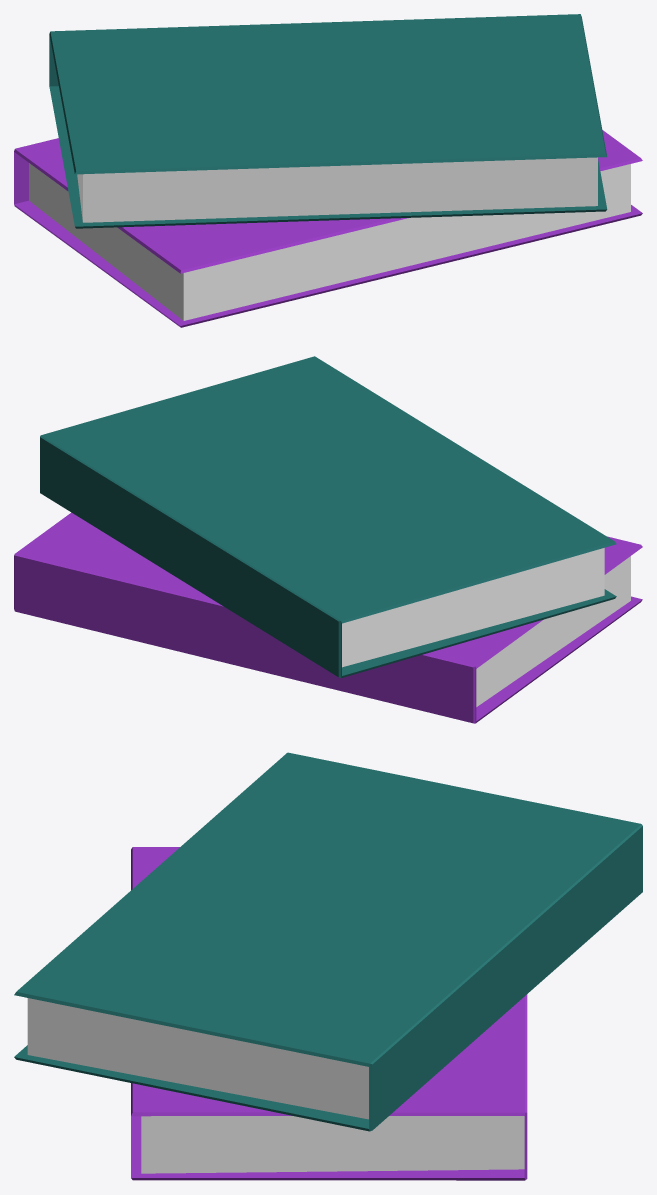
File: SM_Book.fbx
The picture shows the model from 3 angles, top to bottom: view 1: azimuth 30°, elevation 25°; view 2: azimuth 150°, elevation 25°; view 3: azimuth 270°, elevation 25°; orthographic projection. The views are drawn at different scales.
Visible parts, largest first — view 1: SM_Book; view 2: SM_Book; view 3: SM_Book.
Boxes of the visible parts, <box> form: SM_Book: <box>14,14,642,327</box>; SM_Book: <box>14,356,642,723</box>; SM_Book: <box>14,752,642,1180</box>.
Bounding box in the file's own units: 36.94 × 31.43 × 7.71.
1 material, 1 textured.
